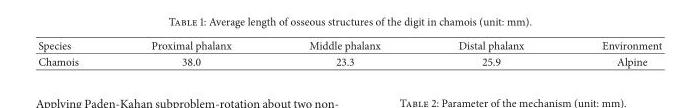table: (37, 37, 661, 68)
table column: (114, 37, 269, 68), (269, 37, 418, 68), (418, 37, 562, 68), (562, 37, 661, 68), (37, 37, 114, 68)
table row: (37, 37, 661, 53), (37, 53, 661, 68)
